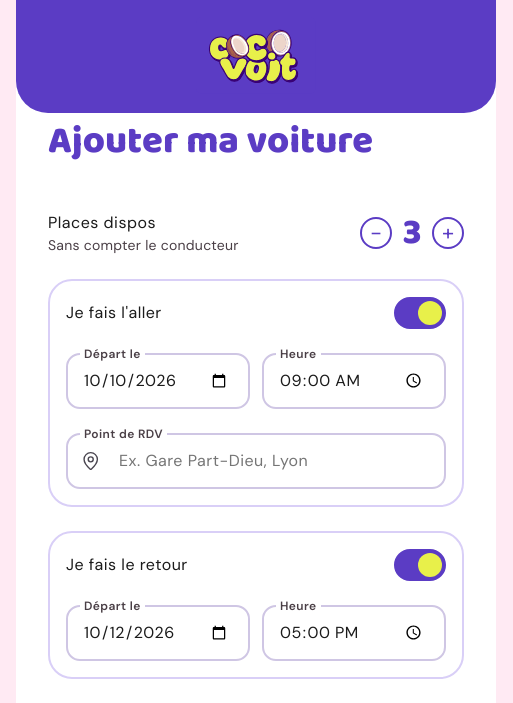
it: Ma voiture › au plus 6 places passagers par voiture
Click the button named "Une place de plus" at (448, 233), box [432,217,464,249]
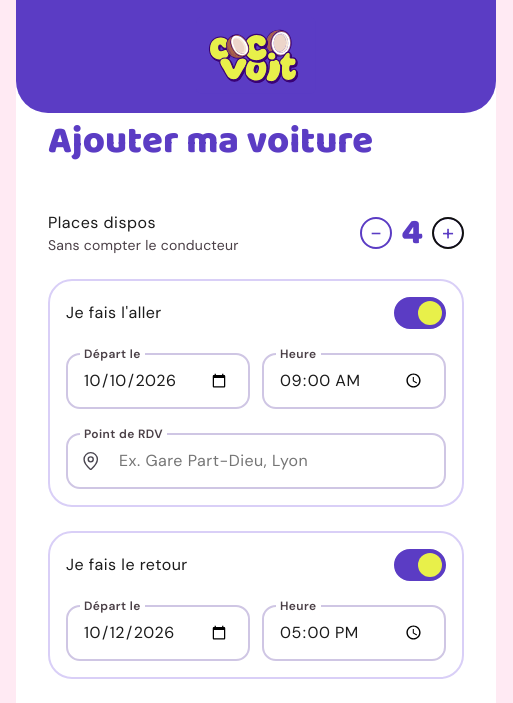
Click the button named "Une place de plus" at (448, 233), box [432,217,464,249]
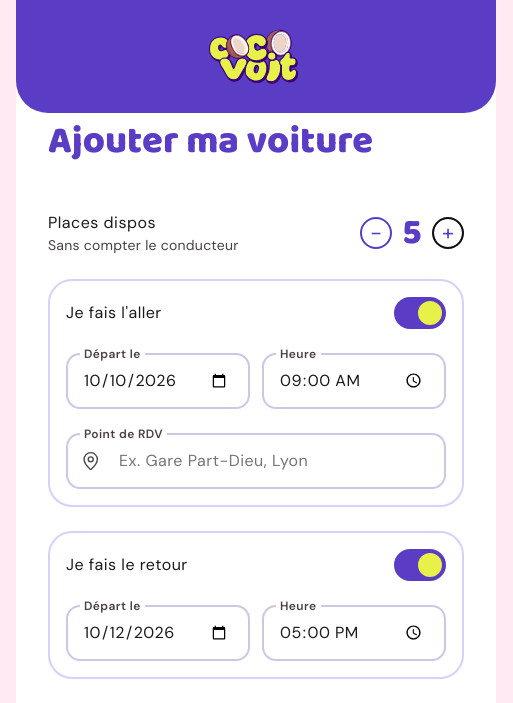
Click the button named "Une place de plus" at (448, 233), box [432,217,464,249]
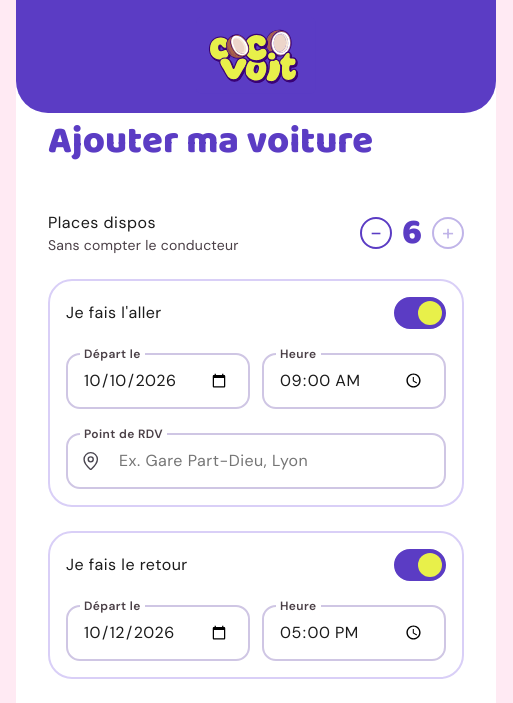
Result: the element named "Places dispos" shows "6" at [402,204,422,262]
